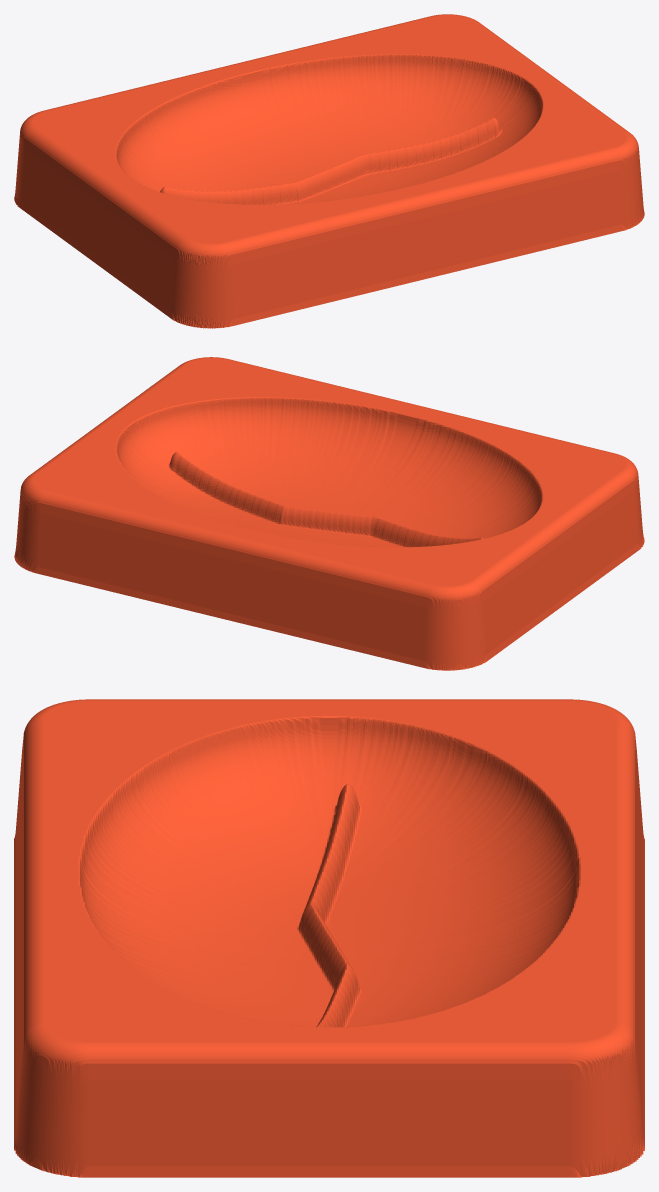
File: mold.glb
3 views of the same model, one above another, from view 1: azimuth 30°, elevation 25°; view 2: azimuth 150°, elevation 25°; view 3: azimuth 270°, elevation 25° (orthographic). The views are drawn at different scales.
Parts seen in each view (by area): view 1: geometry_0; view 2: geometry_0; view 3: geometry_0.
Boxes of the visible parts, x1=… form: geometry_0: x1=14, y1=14, x2=644, y2=328; geometry_0: x1=14, y1=357, x2=644, y2=670; geometry_0: x1=14, y1=699, x2=644, y2=1177.
Size of the model in its own units: 0.105 by 0.0165 by 0.0766.
